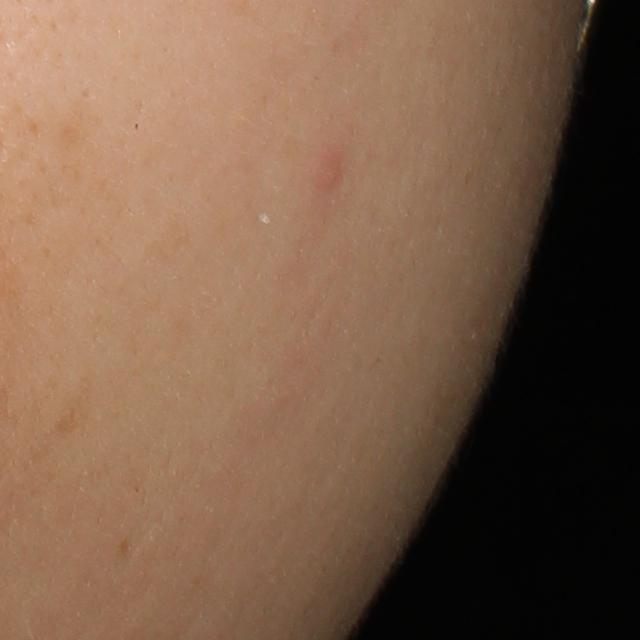papule: (308, 143, 347, 197)
